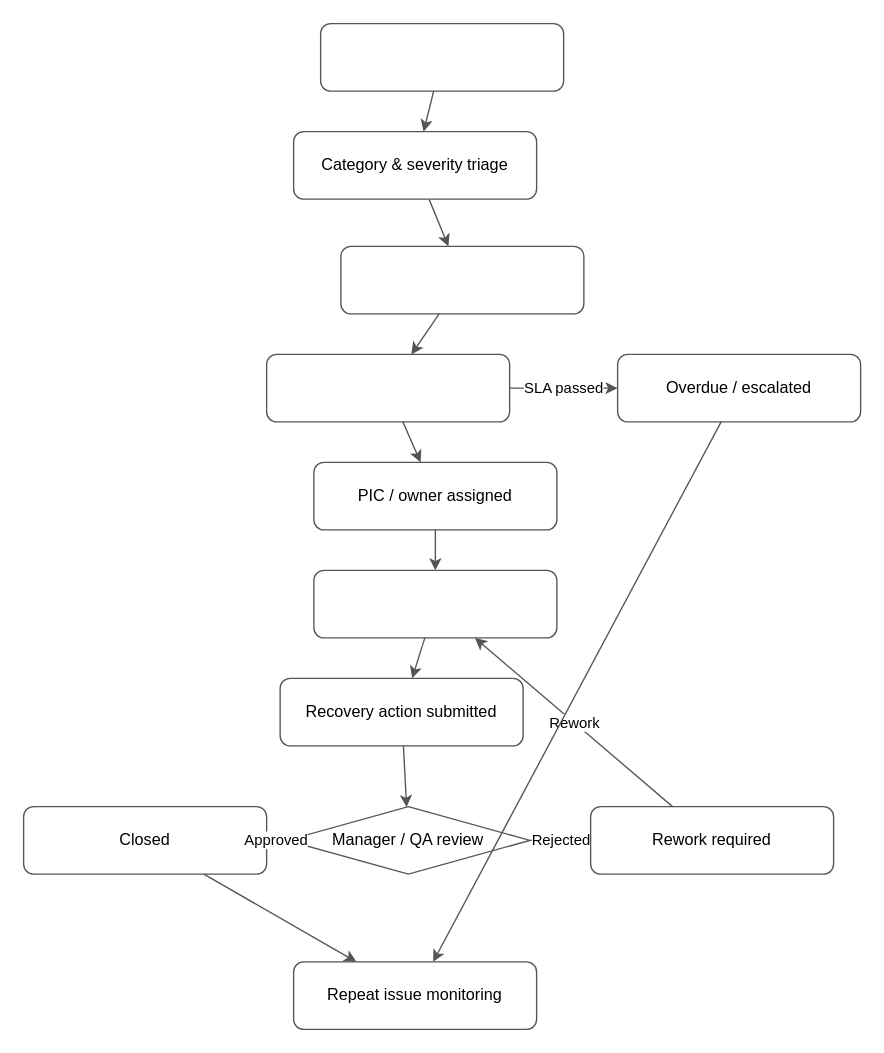
This 884x1053 diagram has some shape labels left out. Here are the shapes that lost their labels. From the top down, the centre of each, then its label:
(441,56): Complaint received
(462,279): SLA assigned
(387,387): Service recovery ticket created
(435,603): Investigation started
